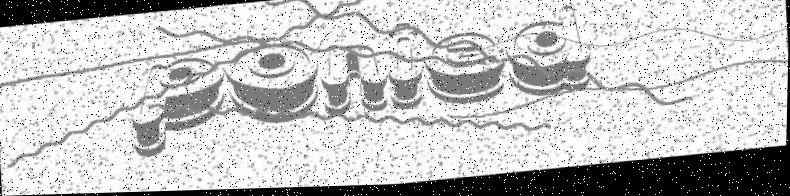d: (499, 8, 595, 105)
e: (421, 34, 509, 110)
i: (382, 34, 426, 110)
n: (312, 35, 391, 119)
o: (216, 38, 322, 131)
p: (119, 54, 232, 163)
